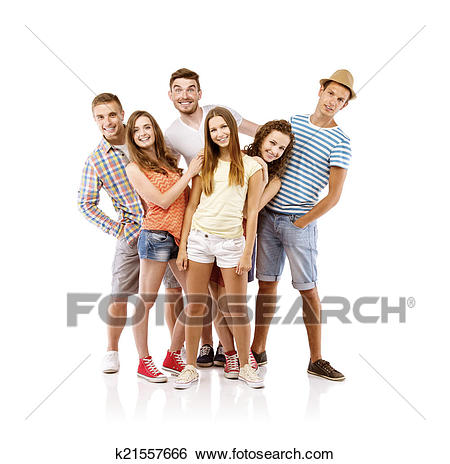person: (277, 65, 357, 184), (191, 112, 262, 220), (120, 105, 184, 216), (75, 88, 137, 201)
